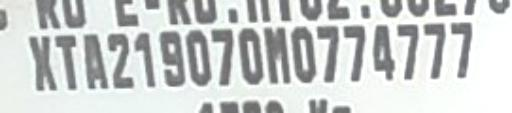letter: (447, 17, 477, 84), (26, 34, 60, 91), (105, 32, 137, 91), (419, 20, 449, 81), (236, 26, 266, 87), (154, 30, 186, 87), (368, 24, 398, 81), (183, 30, 213, 87), (79, 32, 109, 89), (313, 22, 341, 83), (289, 24, 317, 85), (340, 22, 368, 81), (262, 26, 290, 85), (209, 28, 237, 85), (53, 32, 81, 89), (395, 21, 421, 80), (132, 30, 158, 89)
